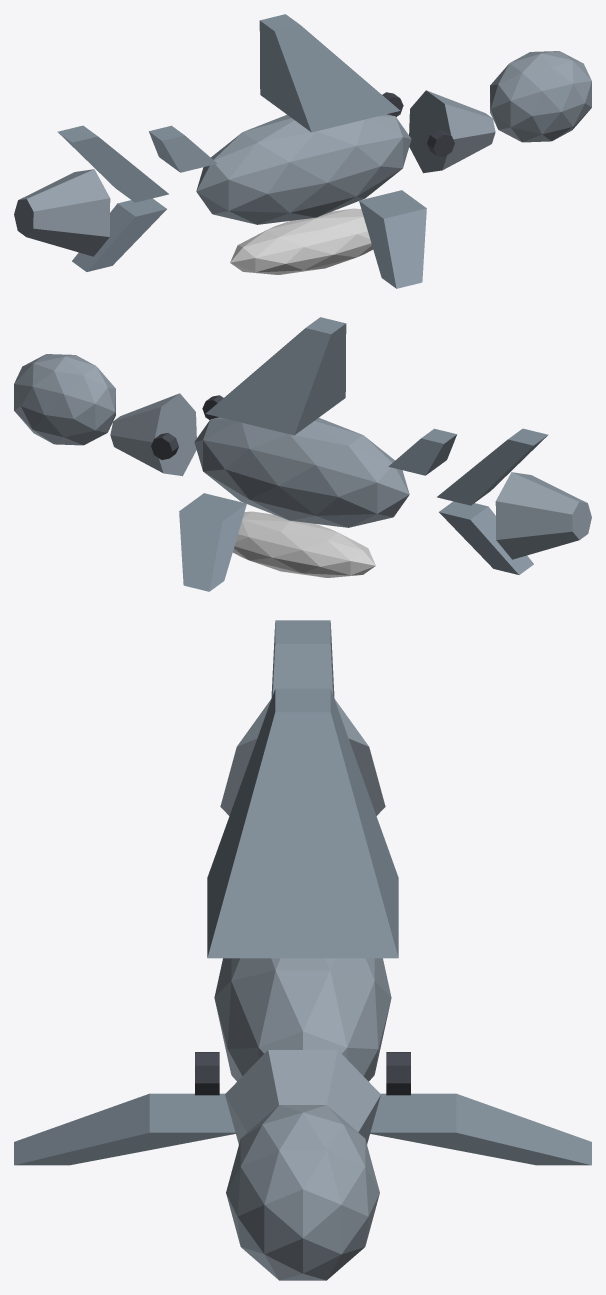
The picture shows the model from 3 angles, top to bottom: view 1: azimuth 30°, elevation 25°; view 2: azimuth 150°, elevation 25°; view 3: azimuth 270°, elevation 25°; orthographic projection. The views are drawn at different scales.
Parts seen in each view (by area): view 1: part0, part5, part1, part4, part3, part9, part2, part6, part7, part10, part12; view 2: part0, part5, part1, part4, part3, part8, part2, part6, part7, part10, part11; view 3: part5, part1, part0, part8, part9, part2, part6, part3, part11, part12.
Part boxes in pixels (x1,y1,x2,y2): part0: (196, 114, 411, 224); part5: (259, 14, 400, 132); part1: (490, 51, 591, 142); part4: (230, 208, 373, 274); part3: (14, 169, 110, 256); part9: (359, 190, 426, 288); part2: (409, 90, 495, 173); part6: (57, 125, 168, 202); part7: (72, 198, 166, 271); part10: (149, 125, 217, 172); part12: (427, 130, 454, 156); part0: (194, 417, 409, 527); part5: (205, 317, 346, 435); part1: (14, 354, 115, 445); part4: (232, 511, 375, 577); part3: (495, 472, 591, 559); part8: (179, 493, 246, 591); part2: (110, 393, 196, 476); part6: (437, 428, 548, 505); part7: (439, 501, 533, 574); part10: (388, 428, 456, 475); part11: (151, 433, 178, 459); part5: (207, 688, 398, 958); part1: (226, 1105, 379, 1280); part0: (214, 958, 391, 1081); part8: (370, 1093, 591, 1165); part9: (14, 1093, 235, 1165); part2: (225, 1050, 380, 1144); part6: (271, 620, 334, 698); part3: (220, 699, 385, 815); part11: (386, 1052, 410, 1095); part12: (195, 1052, 219, 1095).
Size of the model in its own units: 7.93 by 3.34 by 3.75.
